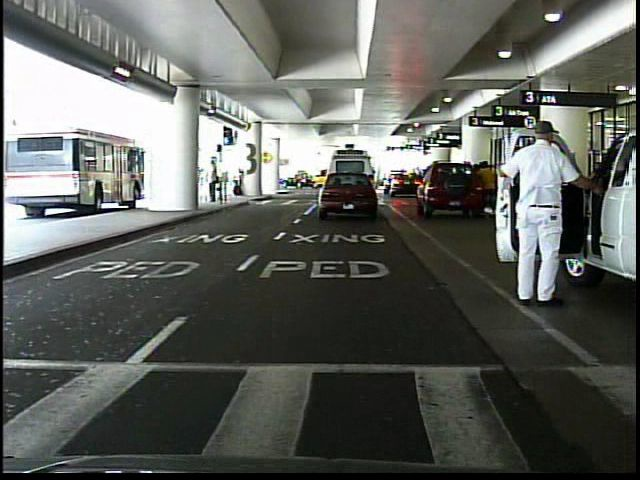person: (495, 114, 585, 309), (552, 150, 584, 229), (474, 157, 499, 216), (205, 155, 221, 205), (231, 163, 247, 199)
